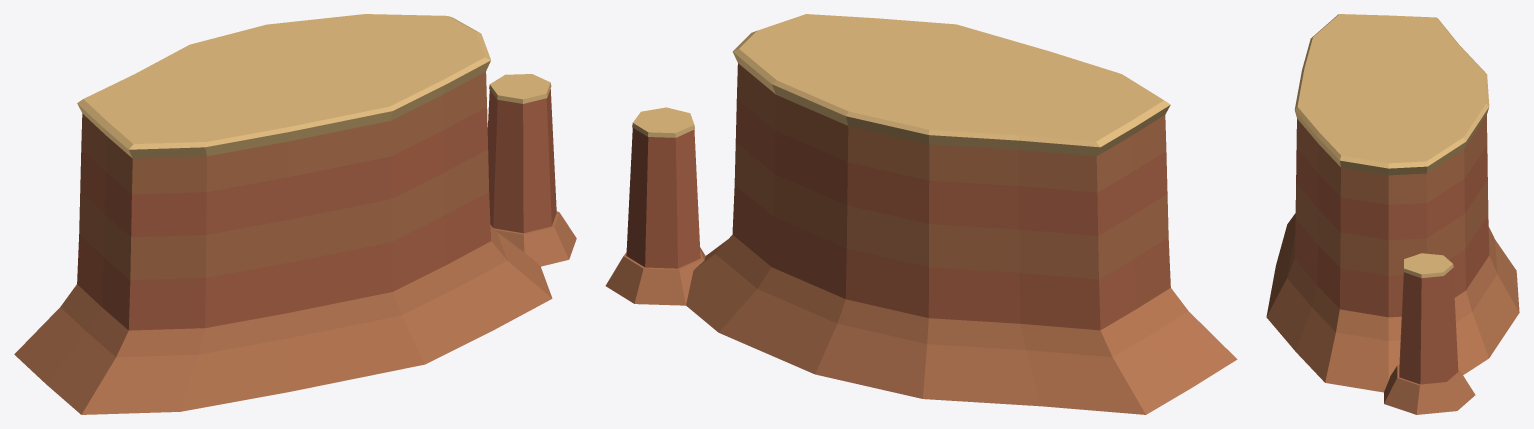
Rendered from mesa_rock.glb.
3 views of the same model, side by side, from view 1: azimuth 30°, elevation 25°; view 2: azimuth 150°, elevation 25°; view 3: azimuth 270°, elevation 25° (orthographic). The views are drawn at different scales.
Visible parts, largest first — view 1: mesa_rock; view 2: mesa_rock; view 3: mesa_rock.
Boxes of the visible parts, x1,y1,x2,y2 form: mesa_rock: (14, 14, 576, 414); mesa_rock: (605, 14, 1237, 414); mesa_rock: (1266, 14, 1519, 414).
Bounding box in the file's own units: 81.52 × 35 × 39.32.
